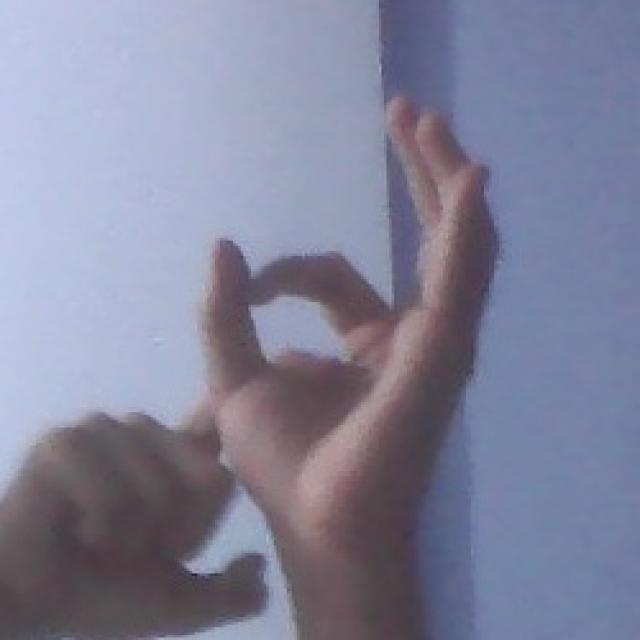Alphabet-Q: (25, 91, 501, 640)
